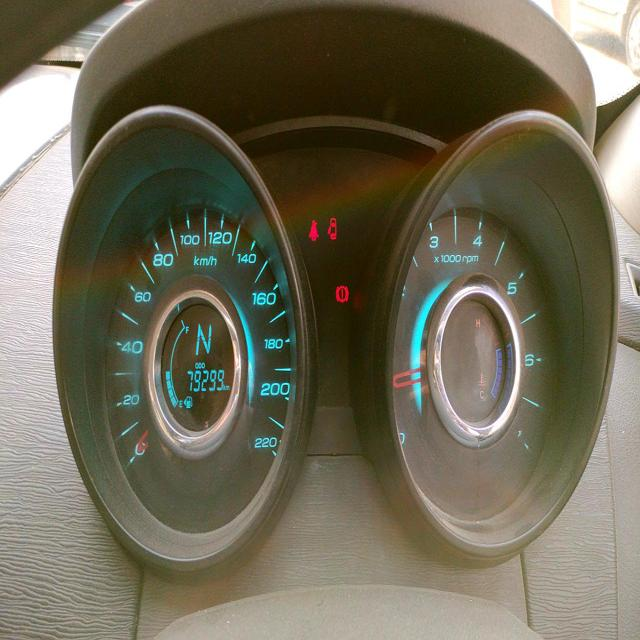odometer: (185, 368, 224, 393)
